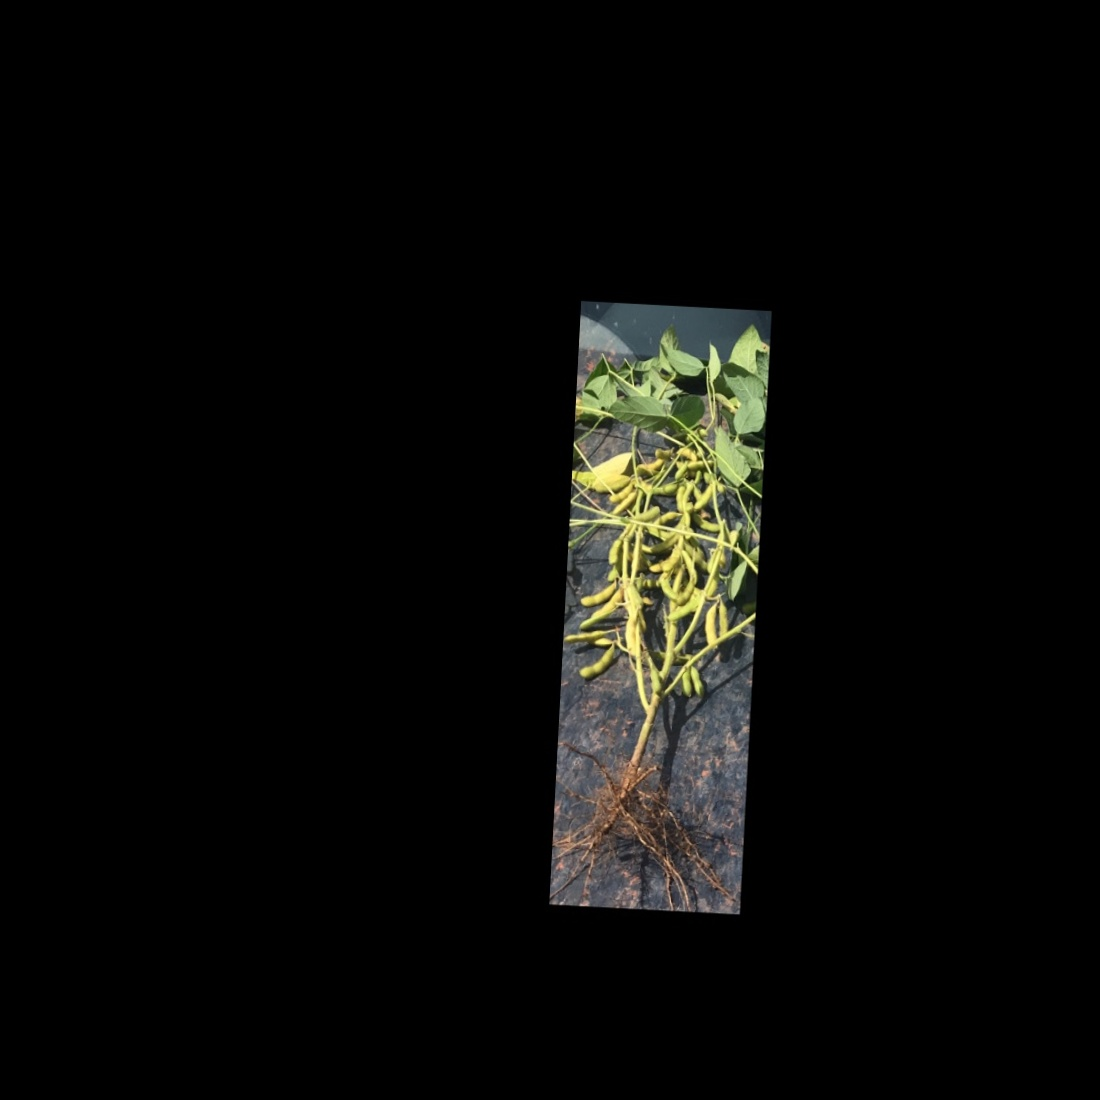pod: (578, 589, 623, 633), (576, 640, 618, 684), (666, 587, 706, 625), (577, 578, 618, 611), (563, 623, 617, 645), (686, 511, 726, 536), (691, 478, 717, 517), (611, 487, 641, 517), (687, 662, 708, 701), (608, 479, 635, 505), (717, 599, 733, 640), (676, 579, 696, 607), (647, 664, 664, 694), (679, 664, 693, 700)
soy: (553, 327, 768, 905)
